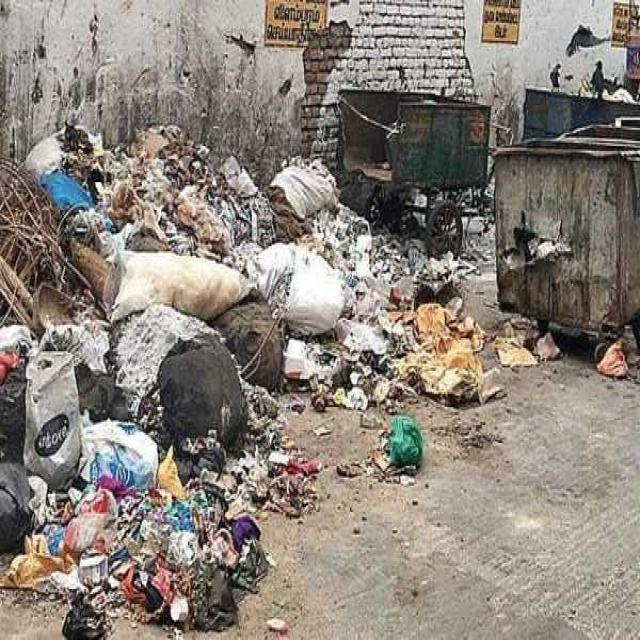garbage: (0, 36, 640, 640)
